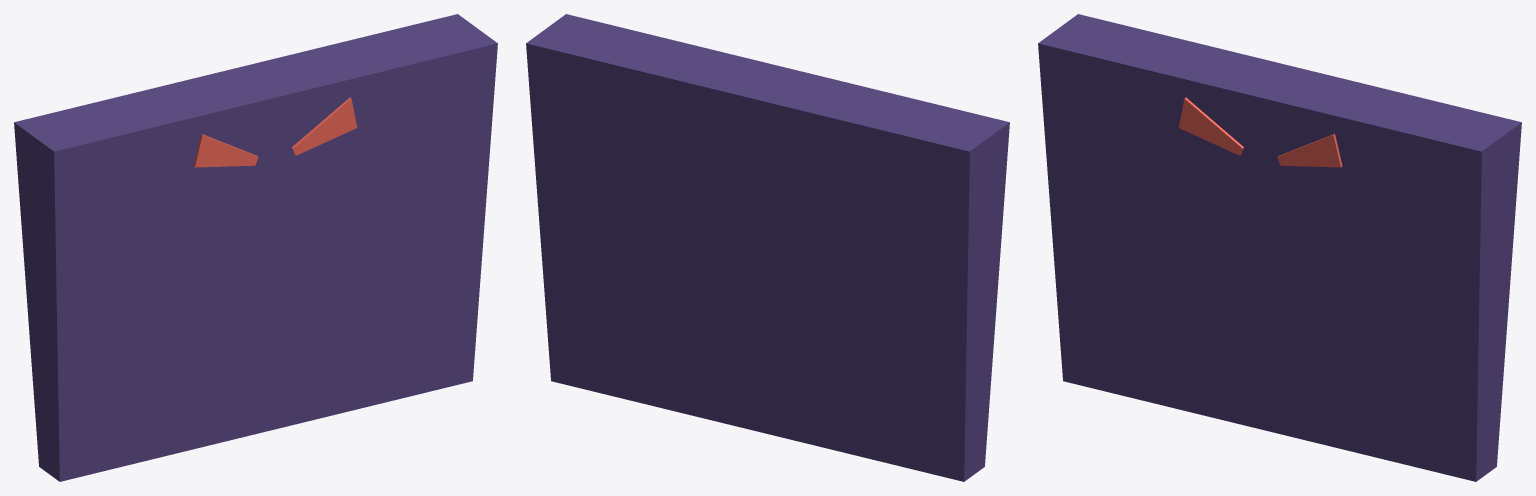
The model's file is EnemyWall.fbx.
3 renders of one model, left to right at view 1: azimuth 30°, elevation 25°; view 2: azimuth 150°, elevation 25°; view 3: azimuth 330°, elevation 25°, orthographic.
Parts seen in each view (by area): view 1: EnemyWall; view 2: EnemyWall; view 3: EnemyWall.
Boxes of the visible parts, left/top/right/bottom form: EnemyWall: left=14, top=14, right=497, bottom=481; EnemyWall: left=526, top=14, right=1009, bottom=481; EnemyWall: left=1038, top=14, right=1521, bottom=481.
Size of the model in its own units: 465 by 342 by 74.67.
